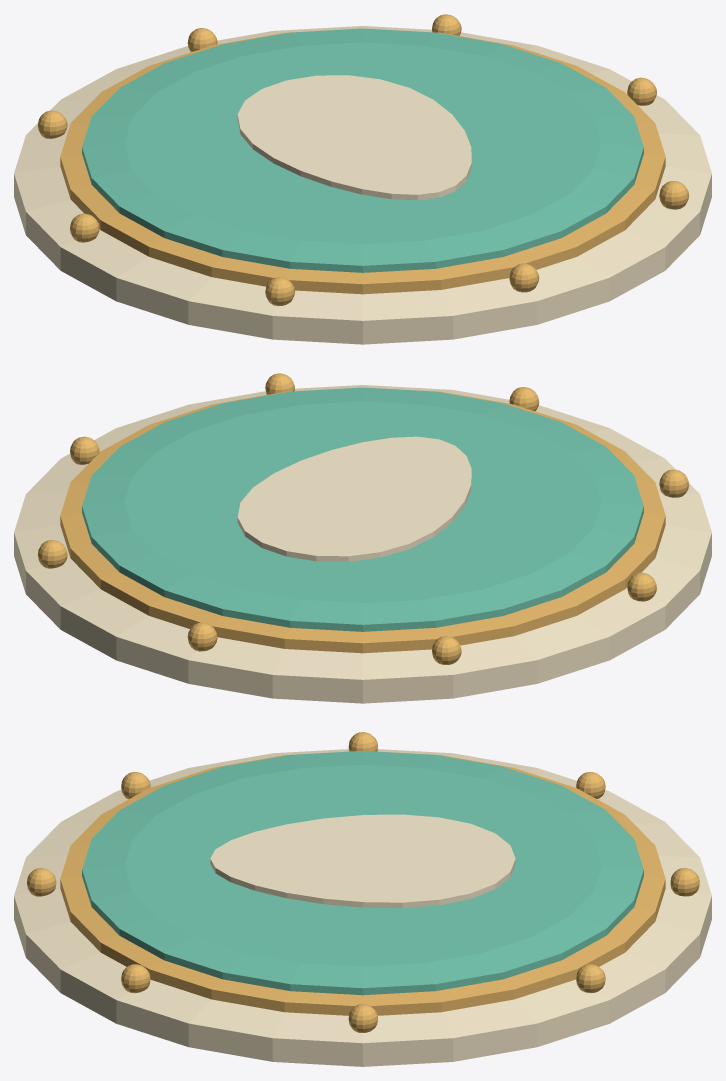
The model's file is Leaf_cooperation_pedestal.obj.
The picture shows the model from 3 angles, top to bottom: view 1: azimuth 30°, elevation 25°; view 2: azimuth 150°, elevation 25°; view 3: azimuth 270°, elevation 25°; orthographic projection.
Parts seen in each view (by area): view 1: Colored_ceramic, Carved_base, Raised_Leaf, Inset_brass, Brass_rivet; view 2: Colored_ceramic, Carved_base, Raised_Leaf, Inset_brass, Brass_rivet; view 3: Colored_ceramic, Carved_base, Raised_Leaf, Inset_brass, Brass_rivet.
Part boxes in pixels (left/top/right/bottom): Colored_ceramic: left=82, top=28, right=643, bottom=272; Carved_base: left=14, top=26, right=711, bottom=344; Raised_Leaf: left=237, top=75, right=471, bottom=200; Inset_brass: left=60, top=28, right=665, bottom=294; Brass_rivet: left=38, top=14, right=689, bottom=306; Colored_ceramic: left=82, top=387, right=643, bottom=631; Carved_base: left=14, top=385, right=711, bottom=703; Raised_Leaf: left=237, top=436, right=471, bottom=561; Inset_brass: left=60, top=387, right=665, bottom=653; Brass_rivet: left=37, top=373, right=689, bottom=664; Colored_ceramic: left=82, top=751, right=643, bottom=995; Carved_base: left=14, top=749, right=711, bottom=1066; Raised_Leaf: left=210, top=814, right=515, bottom=908; Inset_brass: left=60, top=750, right=665, bottom=1015; Brass_rivet: left=27, top=732, right=699, bottom=1032.
Bounding box in the file's own units: 2.56 × 0.2784 × 2.56.
